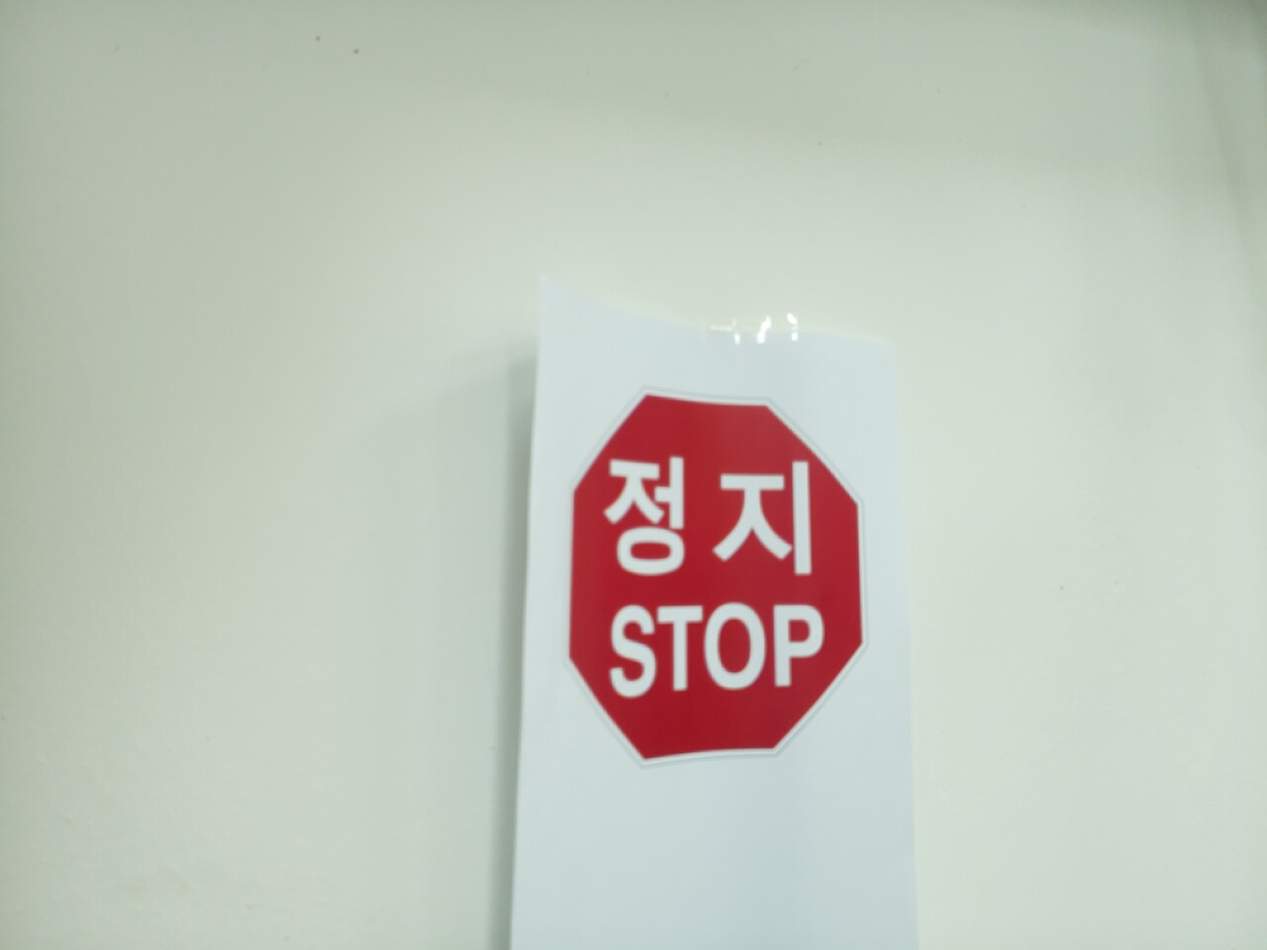stop: (559, 384, 872, 770)
